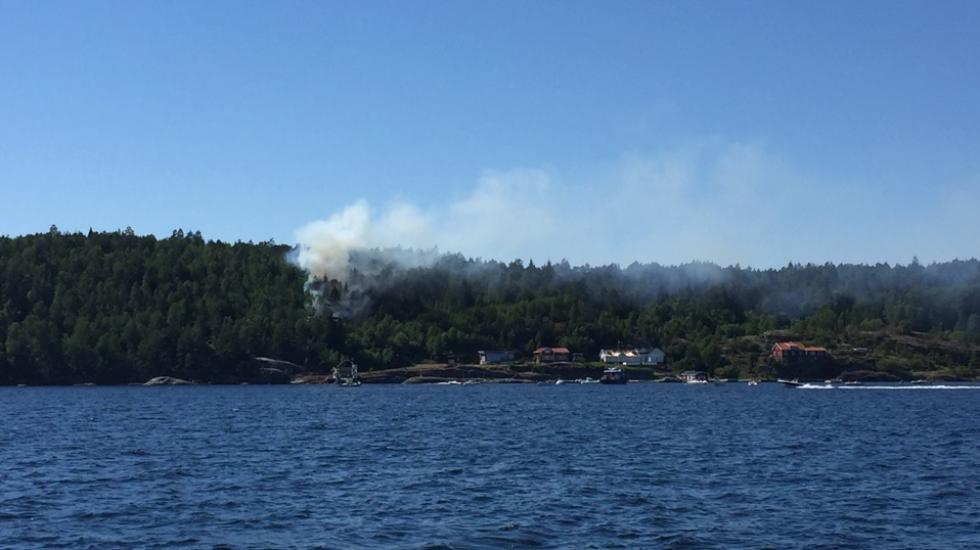smoke: (289, 166, 574, 297)
